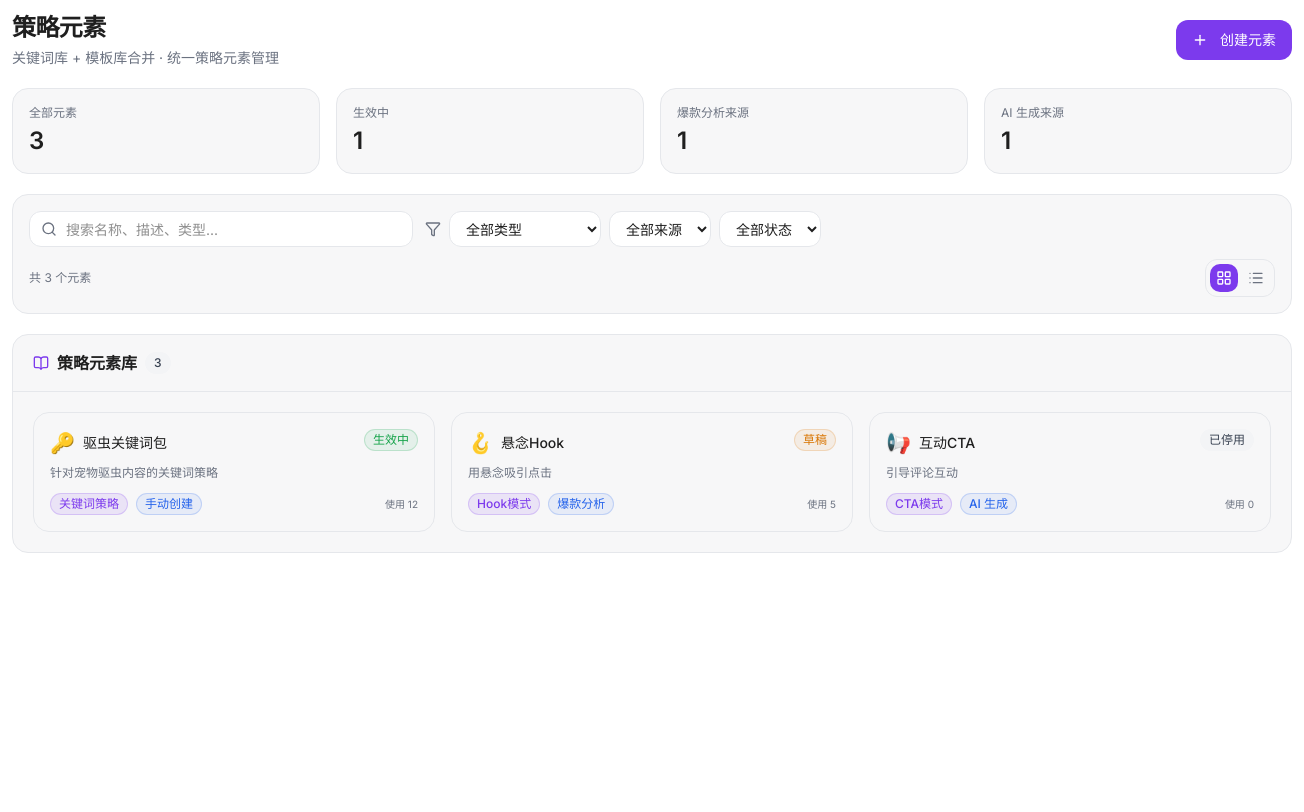
it: StrategyElementsPage › switches to list view
This screenshot has width=1304, height=812.
Click the button named "列表视图" at {"x": 1256, "y": 278}, box [1242,264,1270,292]
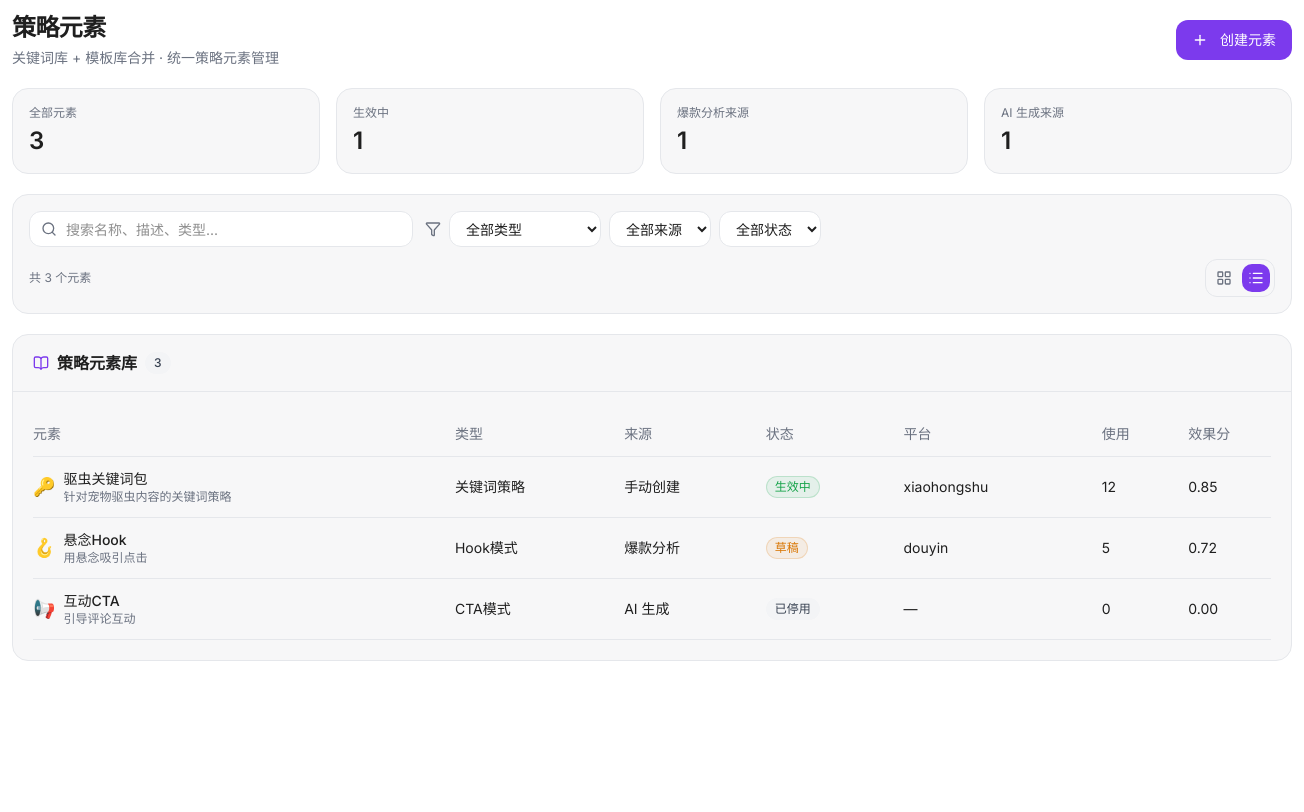
Check: the table is shown, box [33,412,1271,640]
